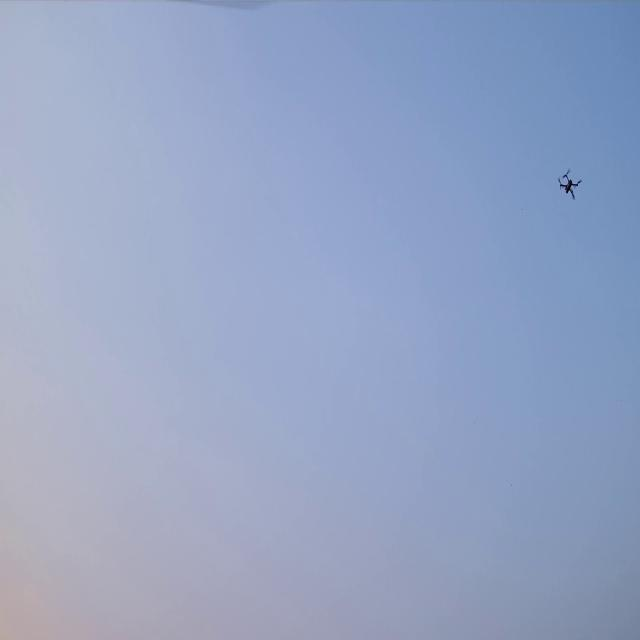UAV: (557, 167, 583, 200)
